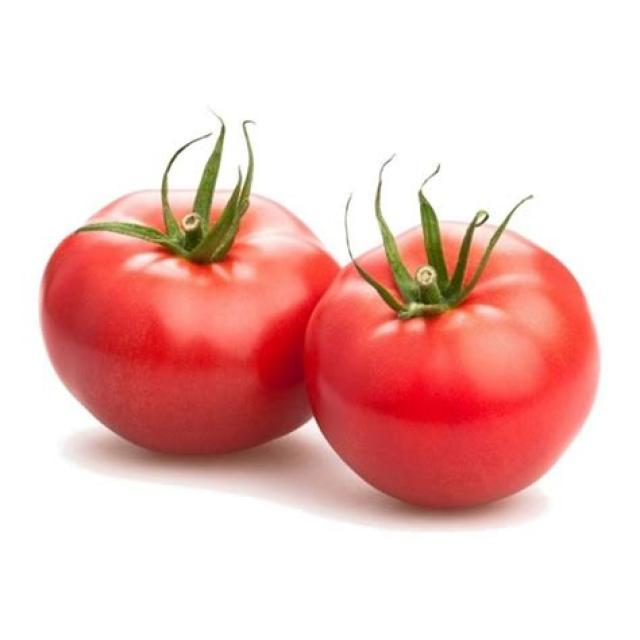Tomato: (39, 112, 343, 458), (303, 195, 602, 511)
